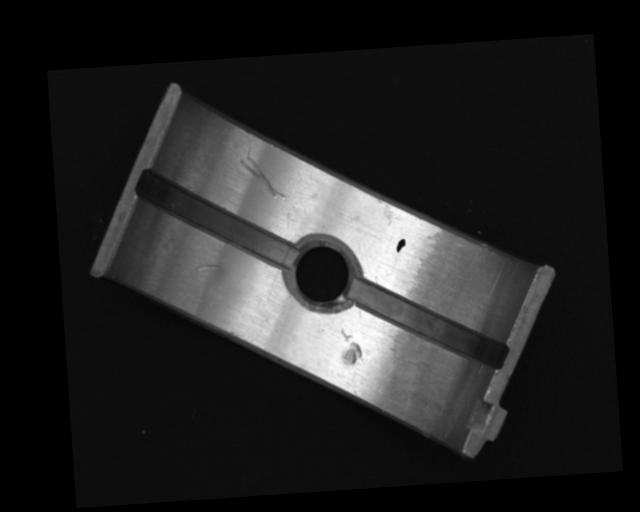blot: (395, 237, 406, 253)
bruise: (339, 325, 363, 368)
gap: (133, 160, 297, 279), (349, 269, 510, 379)
hole: (282, 235, 358, 311)
nick: (238, 152, 285, 203), (194, 262, 221, 272)
